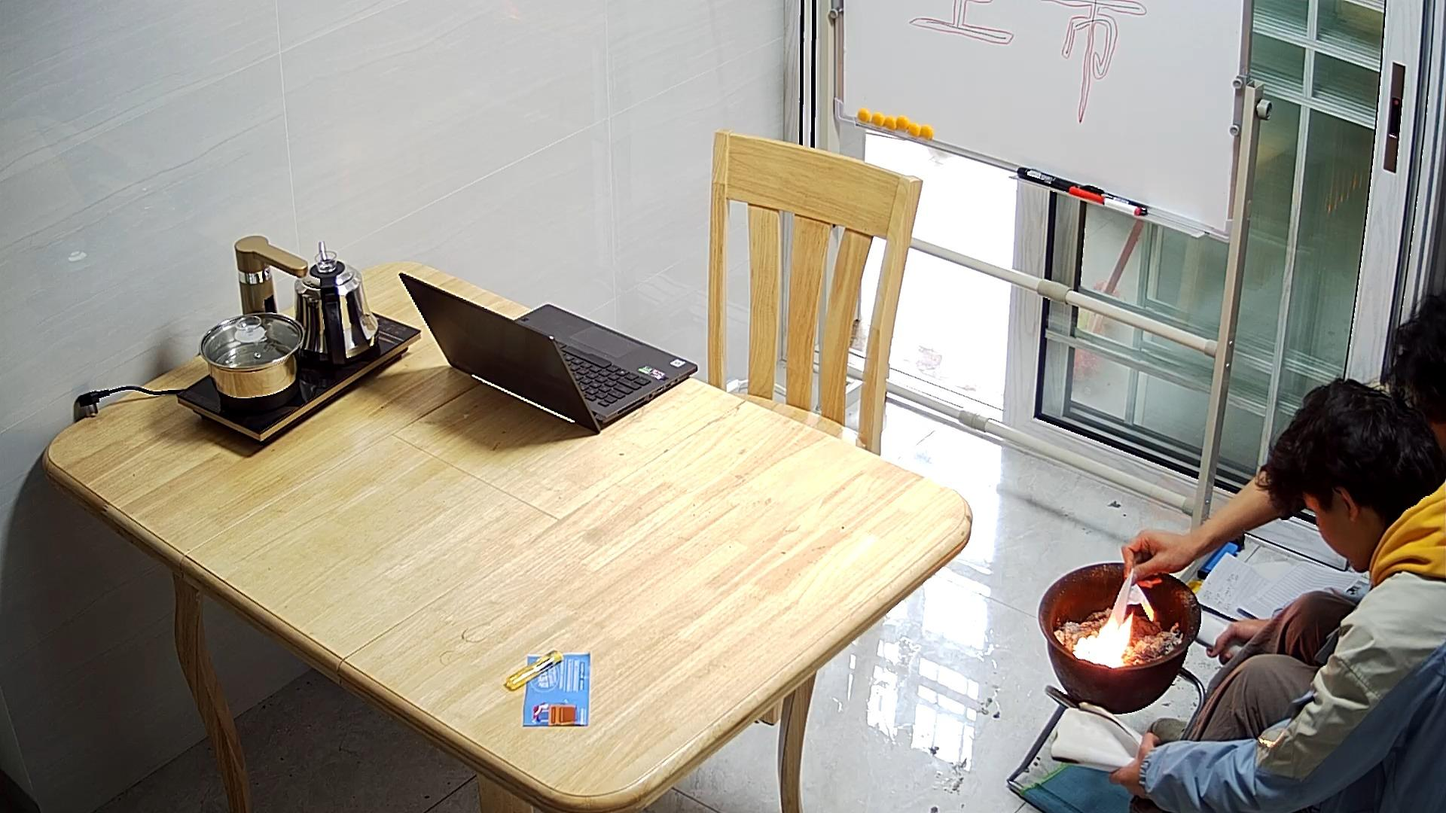fire: (1075, 614, 1132, 667)
